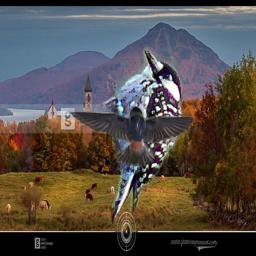Swallow: (65, 104, 196, 167)
Woodpecker: (83, 41, 195, 235)
